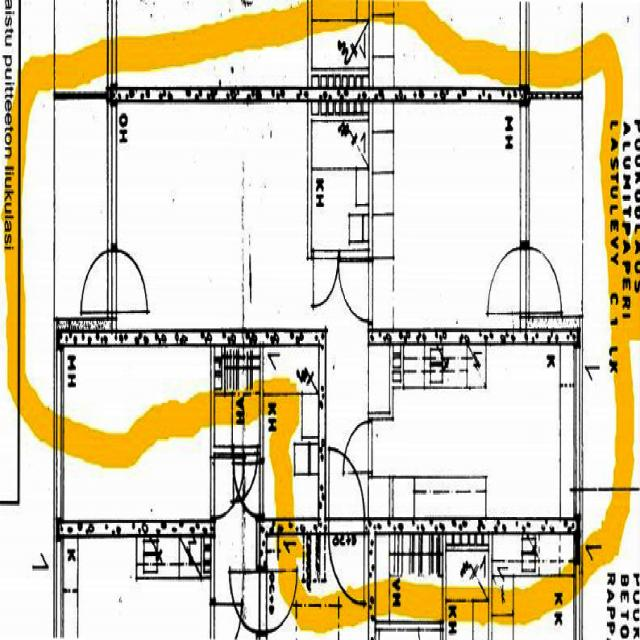door: (328, 516, 364, 603), (328, 447, 364, 532), (520, 248, 562, 312), (487, 248, 529, 312), (107, 251, 147, 312), (76, 251, 116, 312), (339, 263, 373, 321), (313, 251, 338, 307), (344, 422, 372, 471)
